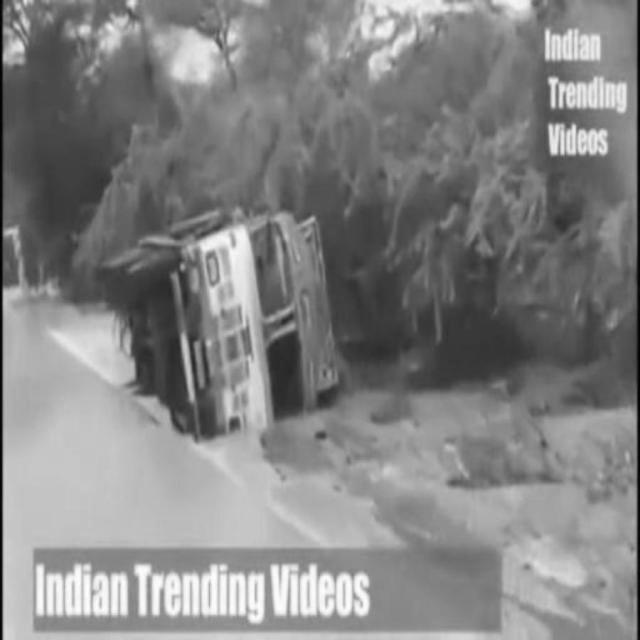vehicle: (108, 207, 341, 445)
